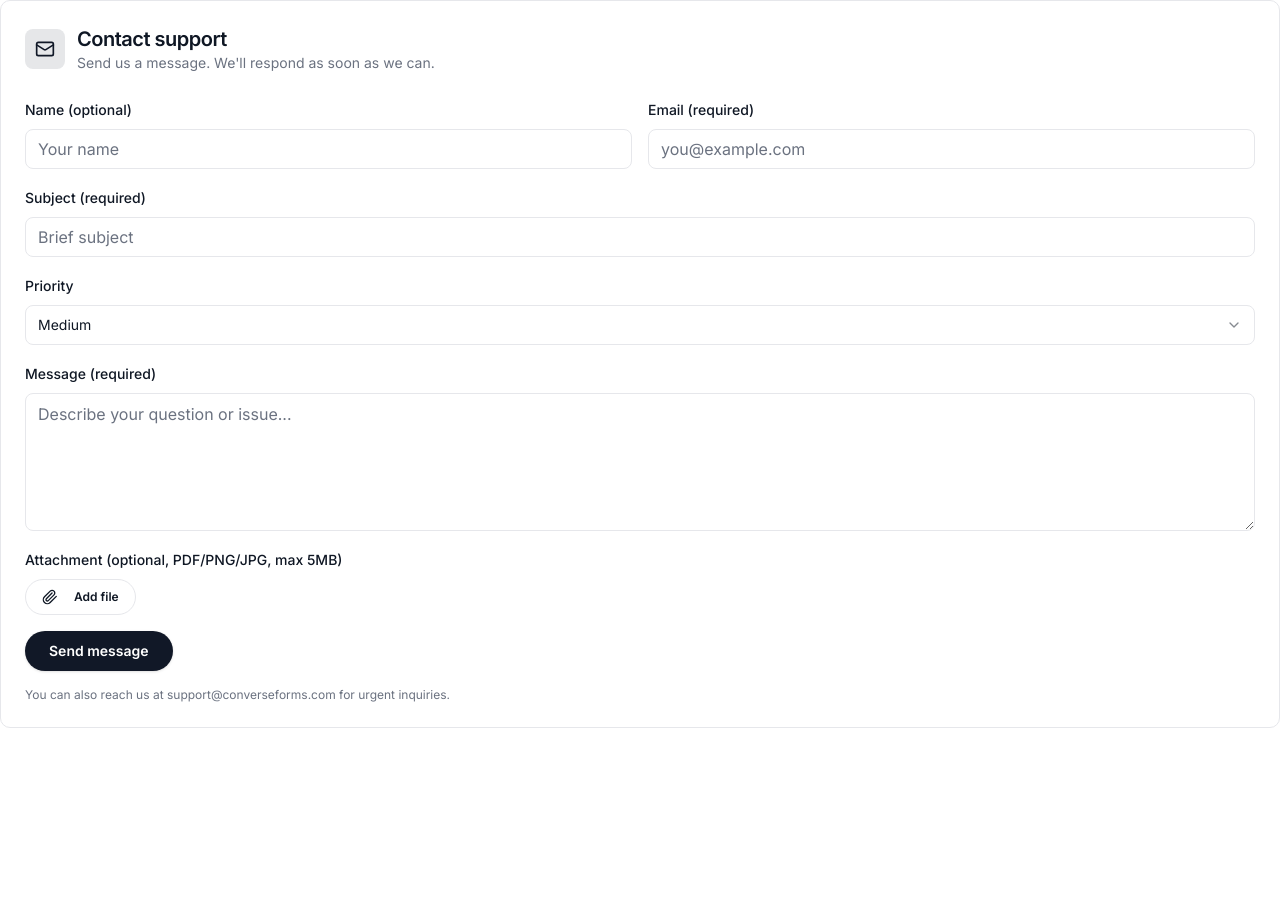
Test: ContactSupportForm › shows validation error when message is empty
Type "user@example.com" into the field labelled "Email (required)" at (952, 149), box x1=648 y1=129 x2=1255 y2=169
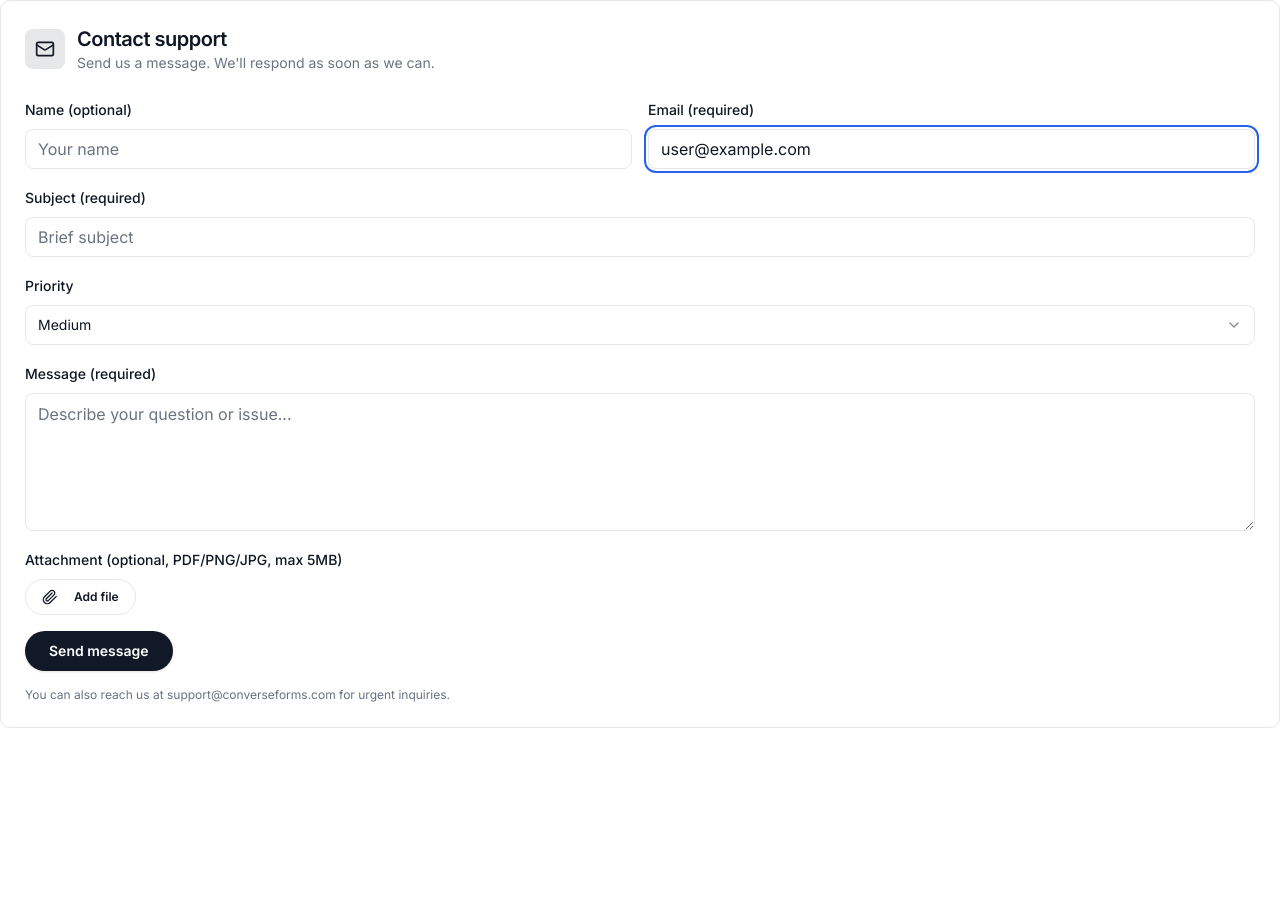
Type "Test subject" into the field labelled "Subject (required)" at (640, 237), box x1=25 y1=217 x2=1255 y2=257
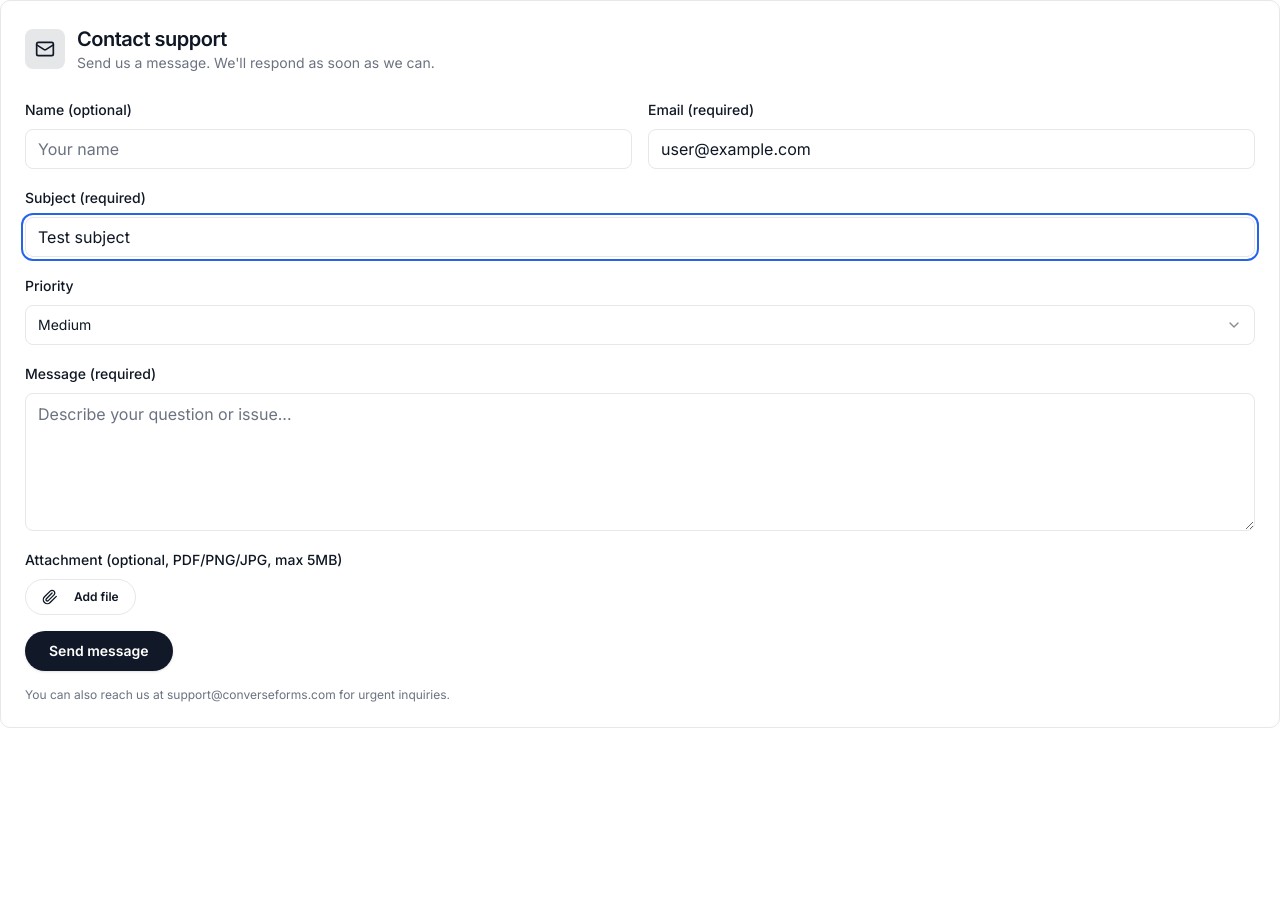
Click the button "Send message" at (99, 651), box x1=25 y1=631 x2=173 y2=671
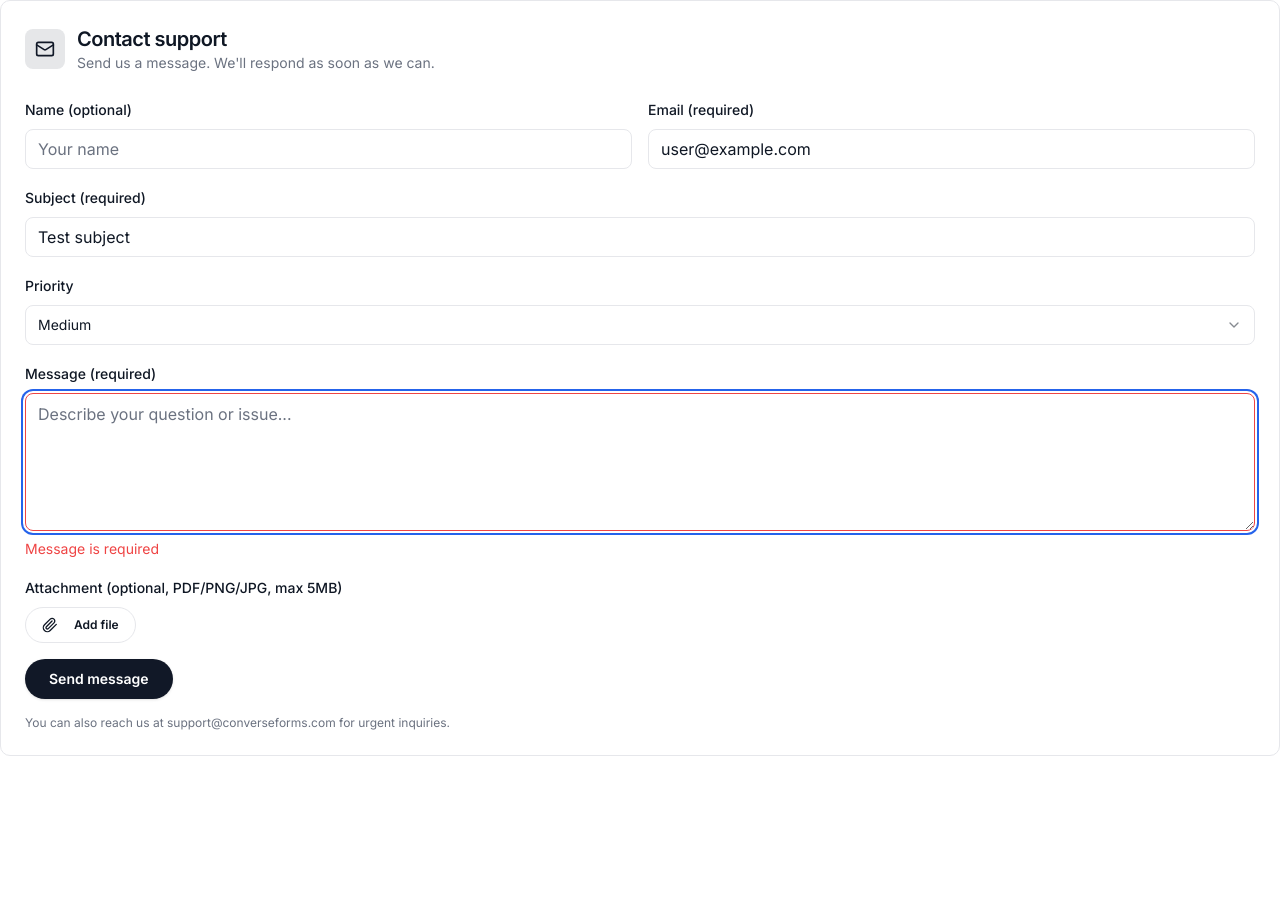
Expected: the text "Message is required" is shown, x1=25 y1=540 x2=159 y2=557
